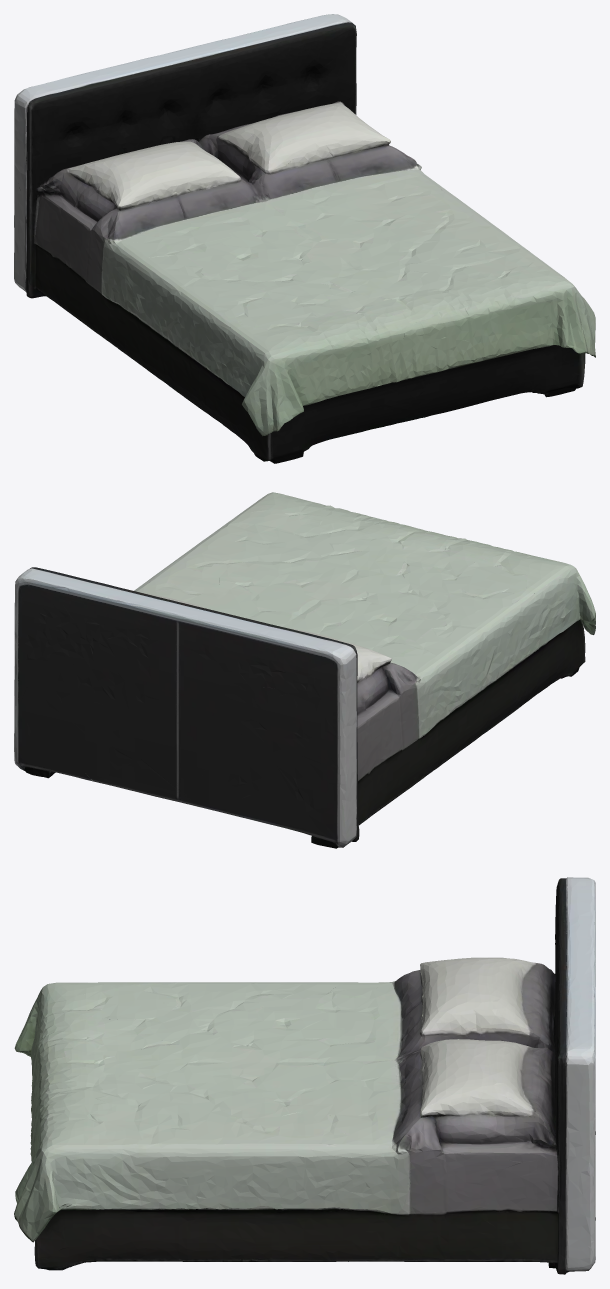
Rendered from ast_a188c23c1ff7.glb.
The picture shows the model from 3 angles, top to bottom: view 1: azimuth 30°, elevation 25°; view 2: azimuth 150°, elevation 25°; view 3: azimuth 270°, elevation 25°; orthographic projection. The views are drawn at different scales.
Parts seen in each view (by area): view 1: geometry_0; view 2: geometry_0; view 3: geometry_0.
Boxes of the visible parts, bbox=[...] form: geometry_0: bbox=[14, 14, 595, 463]; geometry_0: bbox=[14, 492, 595, 848]; geometry_0: bbox=[14, 877, 595, 1274].
Size of the model in its own units: 0.7892 by 0.4234 by 1.
Materials: 1 (1 with a texture image).
